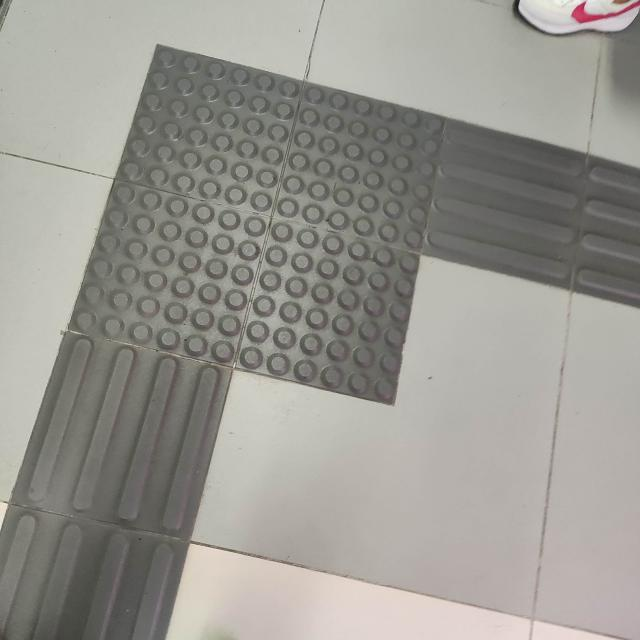kanan: (61, 26, 640, 488)
